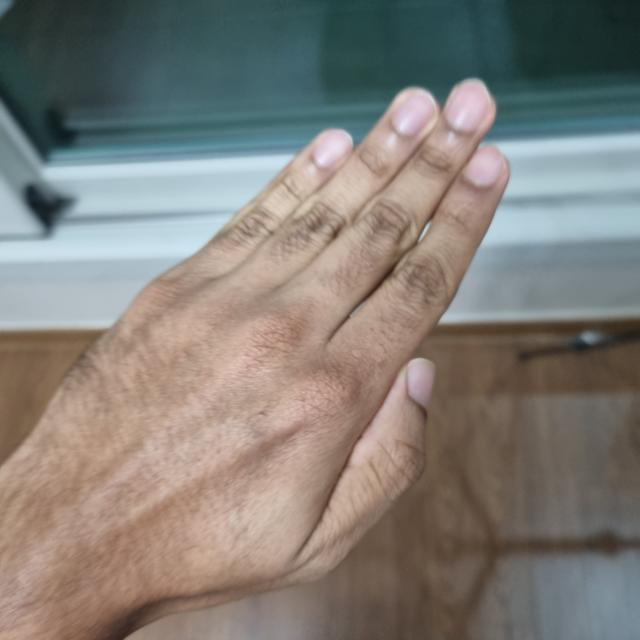Paper: (29, 85, 508, 603)
